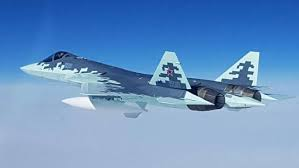fighter: (18, 47, 296, 117)
